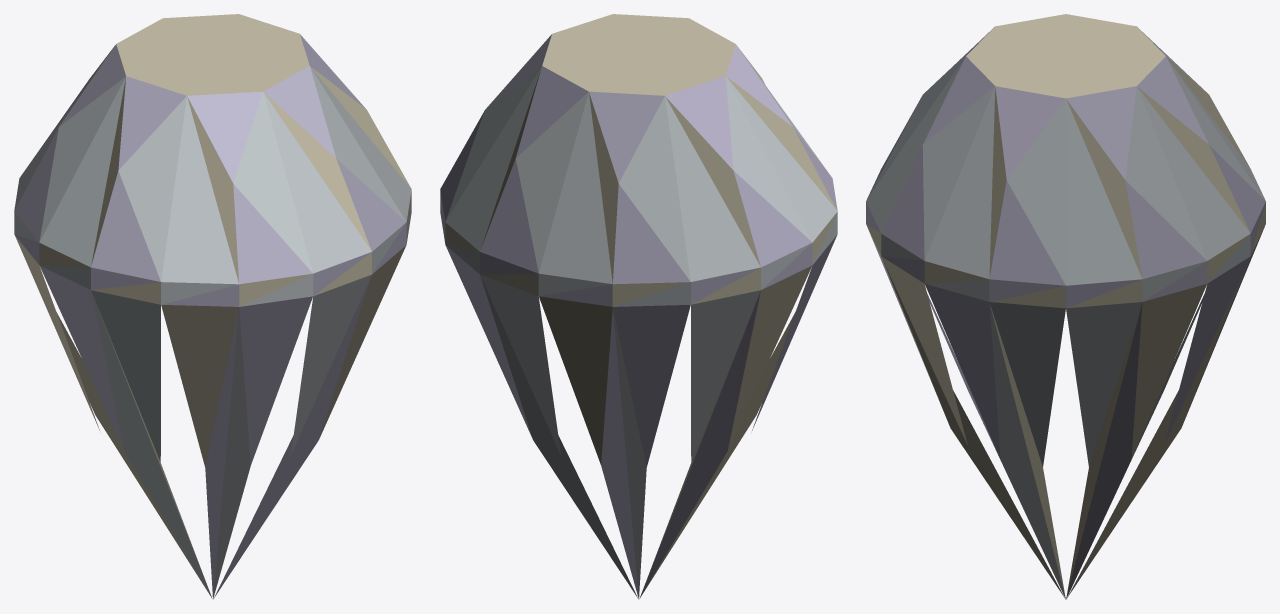
Rendered from cave-diamond.glb.
The picture shows the model from 3 angles, left to right: view 1: azimuth 30°, elevation 25°; view 2: azimuth 150°, elevation 25°; view 3: azimuth 270°, elevation 25°; orthographic projection.
Visible parts, largest first — view 1: 0_diamond; view 2: 0_diamond; view 3: 0_diamond.
Boxes of the visible parts, x1,y1,x2,y2 form: 0_diamond: [14, 14, 411, 599]; 0_diamond: [440, 14, 837, 599]; 0_diamond: [866, 14, 1265, 599].
Bounding box in the file's own units: 0.4 × 0.6 × 0.4.
